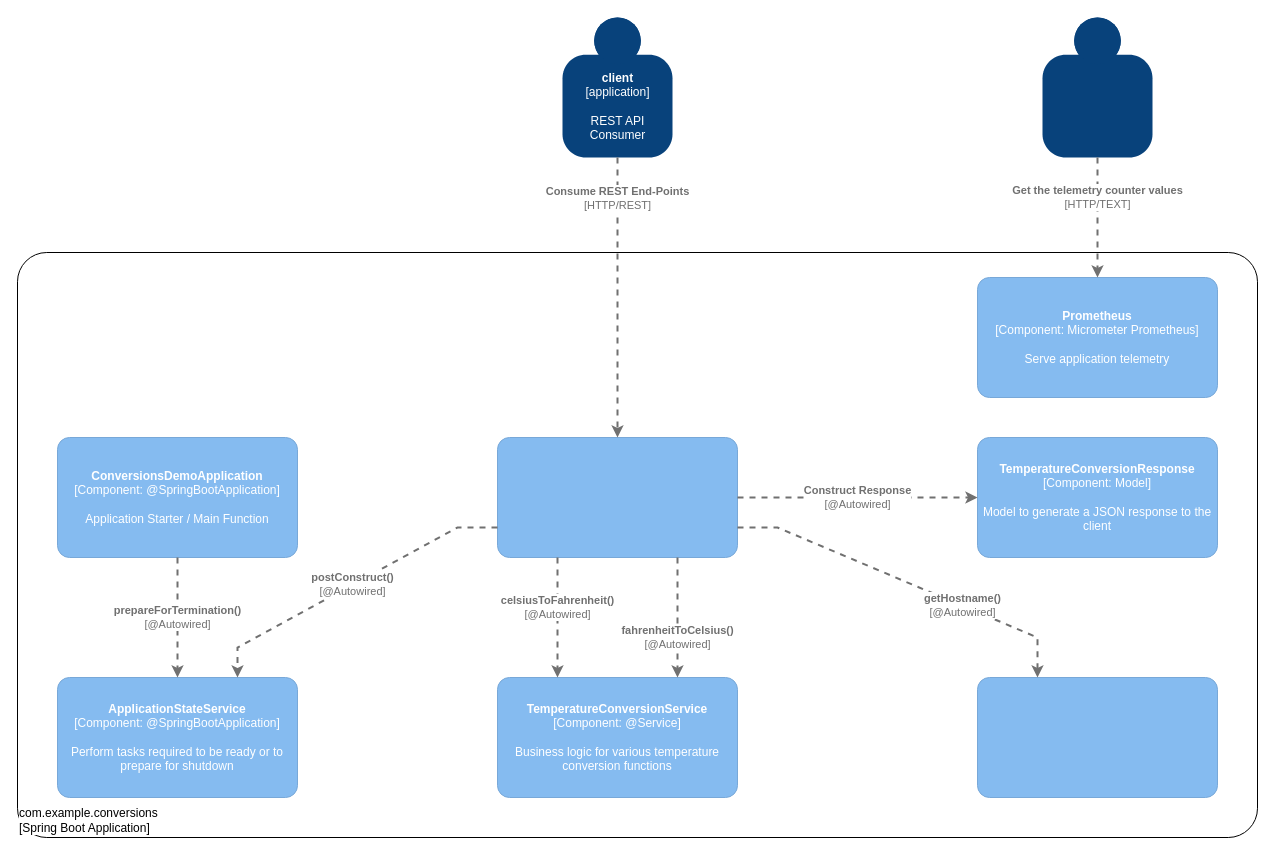
Some shapes in this 1275 by 855 pixel diagram are drawn without their labels. The shapes that lost their labels are listed below. From the top down, each one's box as (x1, y1, x2, y2) in pixels, then its label:
(1042, 17, 1152, 157): client [application] Prometheus Consumer
(496, 436, 738, 558): TempConvetController [Component: @RestController] Serves the REST end points
(976, 676, 1218, 798): OsFunctions [Component: @Component] Utility class to call OS specific functions
